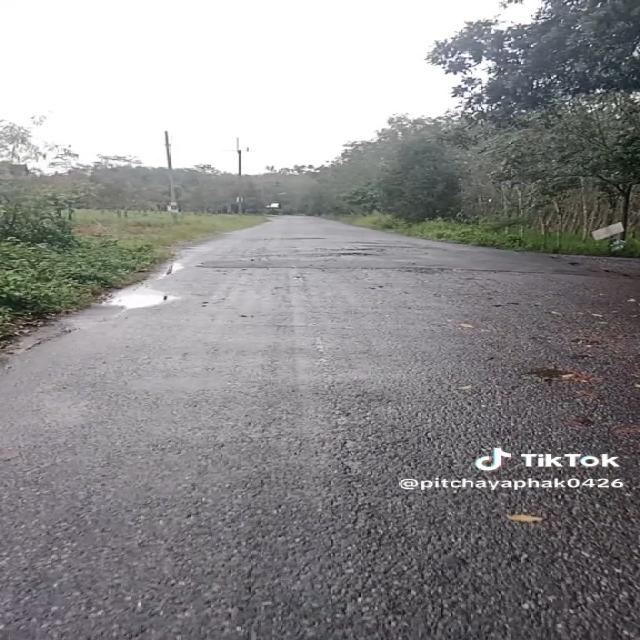Poth-hole: (303, 231, 410, 276)
